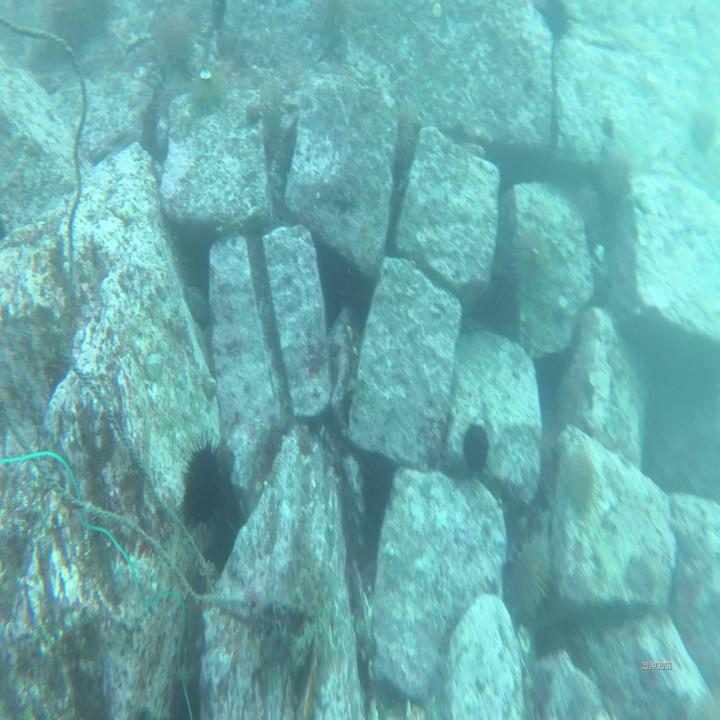echinus: (178, 436, 227, 544), (503, 522, 551, 628), (151, 7, 195, 74), (460, 416, 493, 490), (192, 67, 226, 112)
